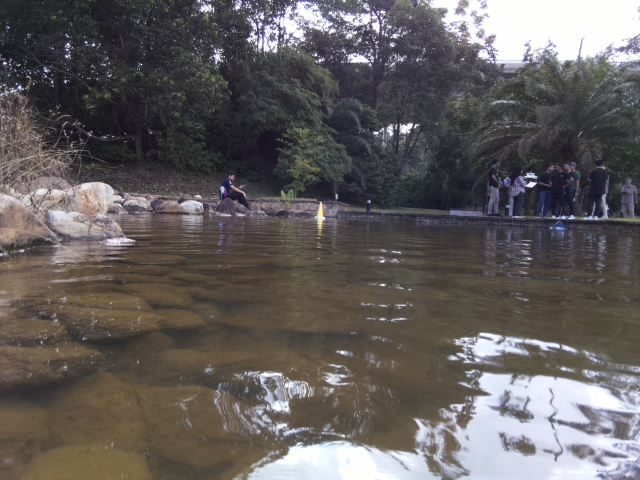checkpoint: (314, 201, 327, 221)
